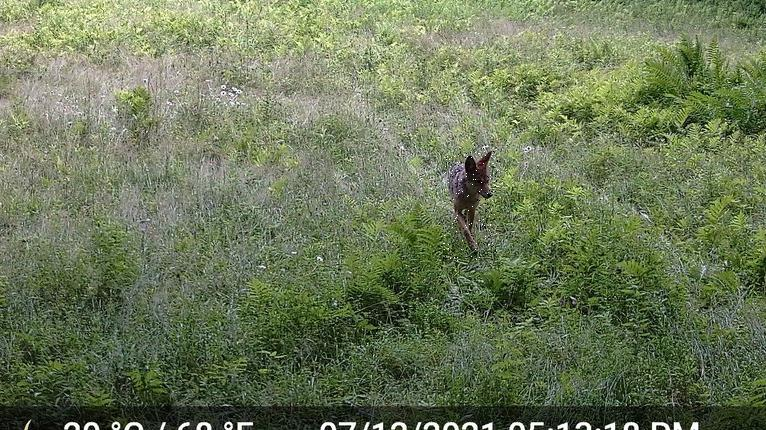Coyote: (444, 148, 499, 261)
